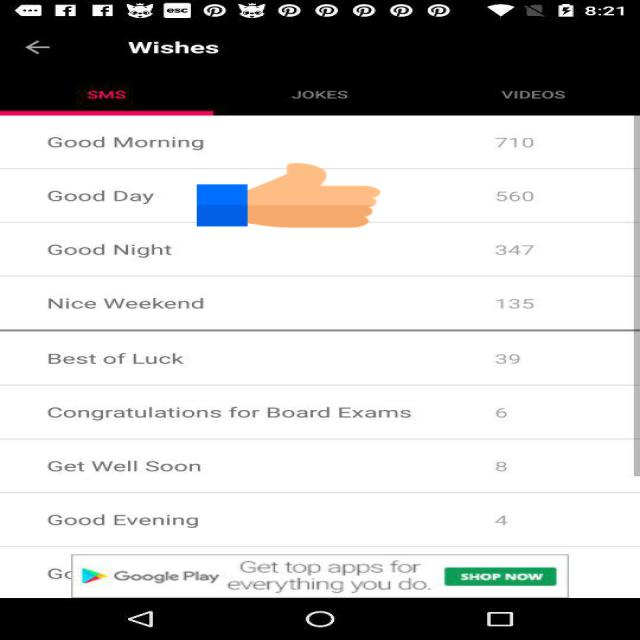privacy zuckering: (197, 162, 380, 230)
